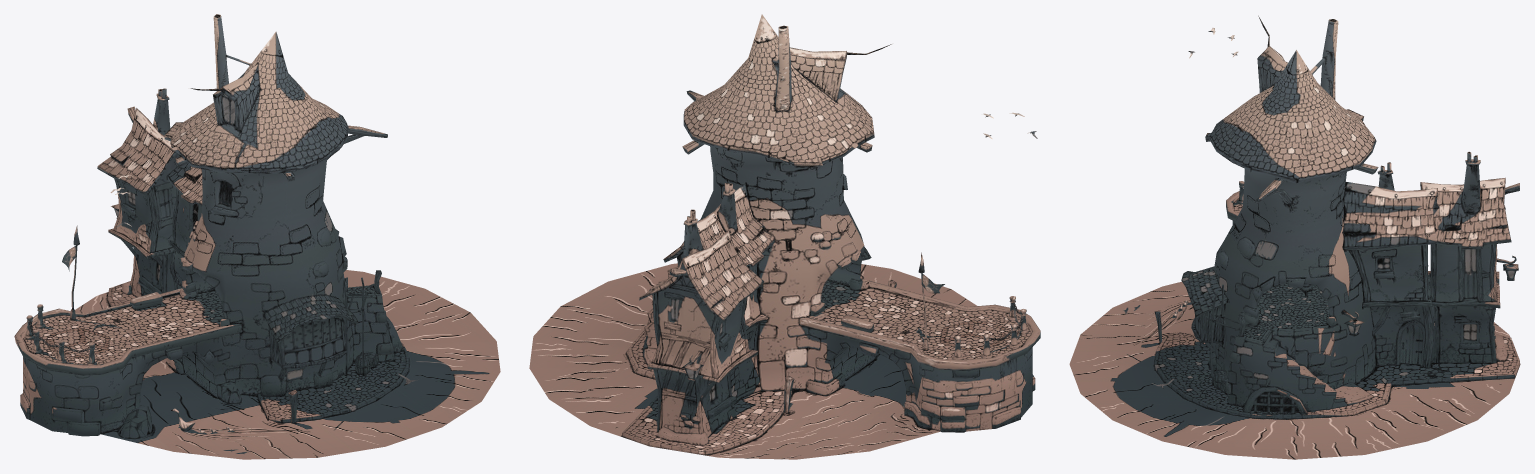
File: toon_houses_day_version.glb
The picture shows the model from 3 angles, left to right: view 1: azimuth 30°, elevation 25°; view 2: azimuth 150°, elevation 25°; view 3: azimuth 270°, elevation 25°; orthographic projection. The views are drawn at different scales.
Parts seen in each view (by area): view 1: houses.001; view 2: houses.001; view 3: houses.001.
Boxes of the visible parts, <box> form: houses.001: <box>14,14,500,459</box>; houses.001: <box>529,14,1040,459</box>; houses.001: <box>1069,15,1520,459</box>.
Size of what is drawn, in the model's own units: 0.3 by 0.2173 by 0.2694.
1 material, 1 textured.
